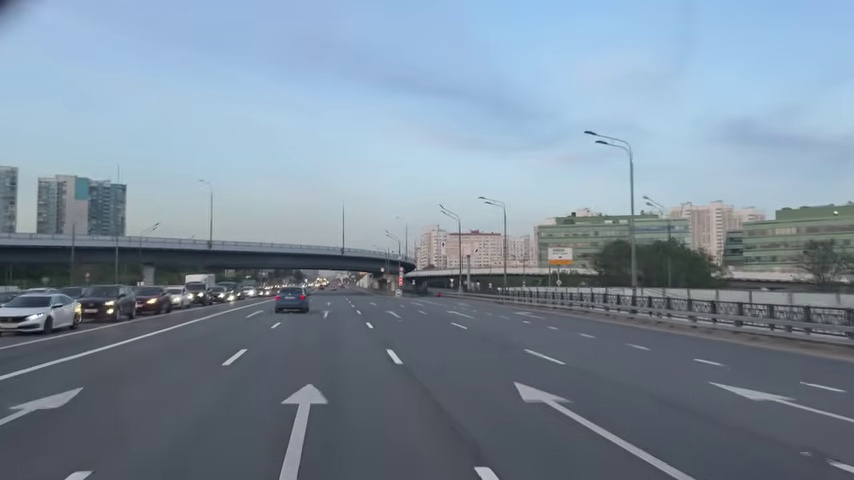apagada: (581, 127, 604, 148), (478, 195, 493, 209)
